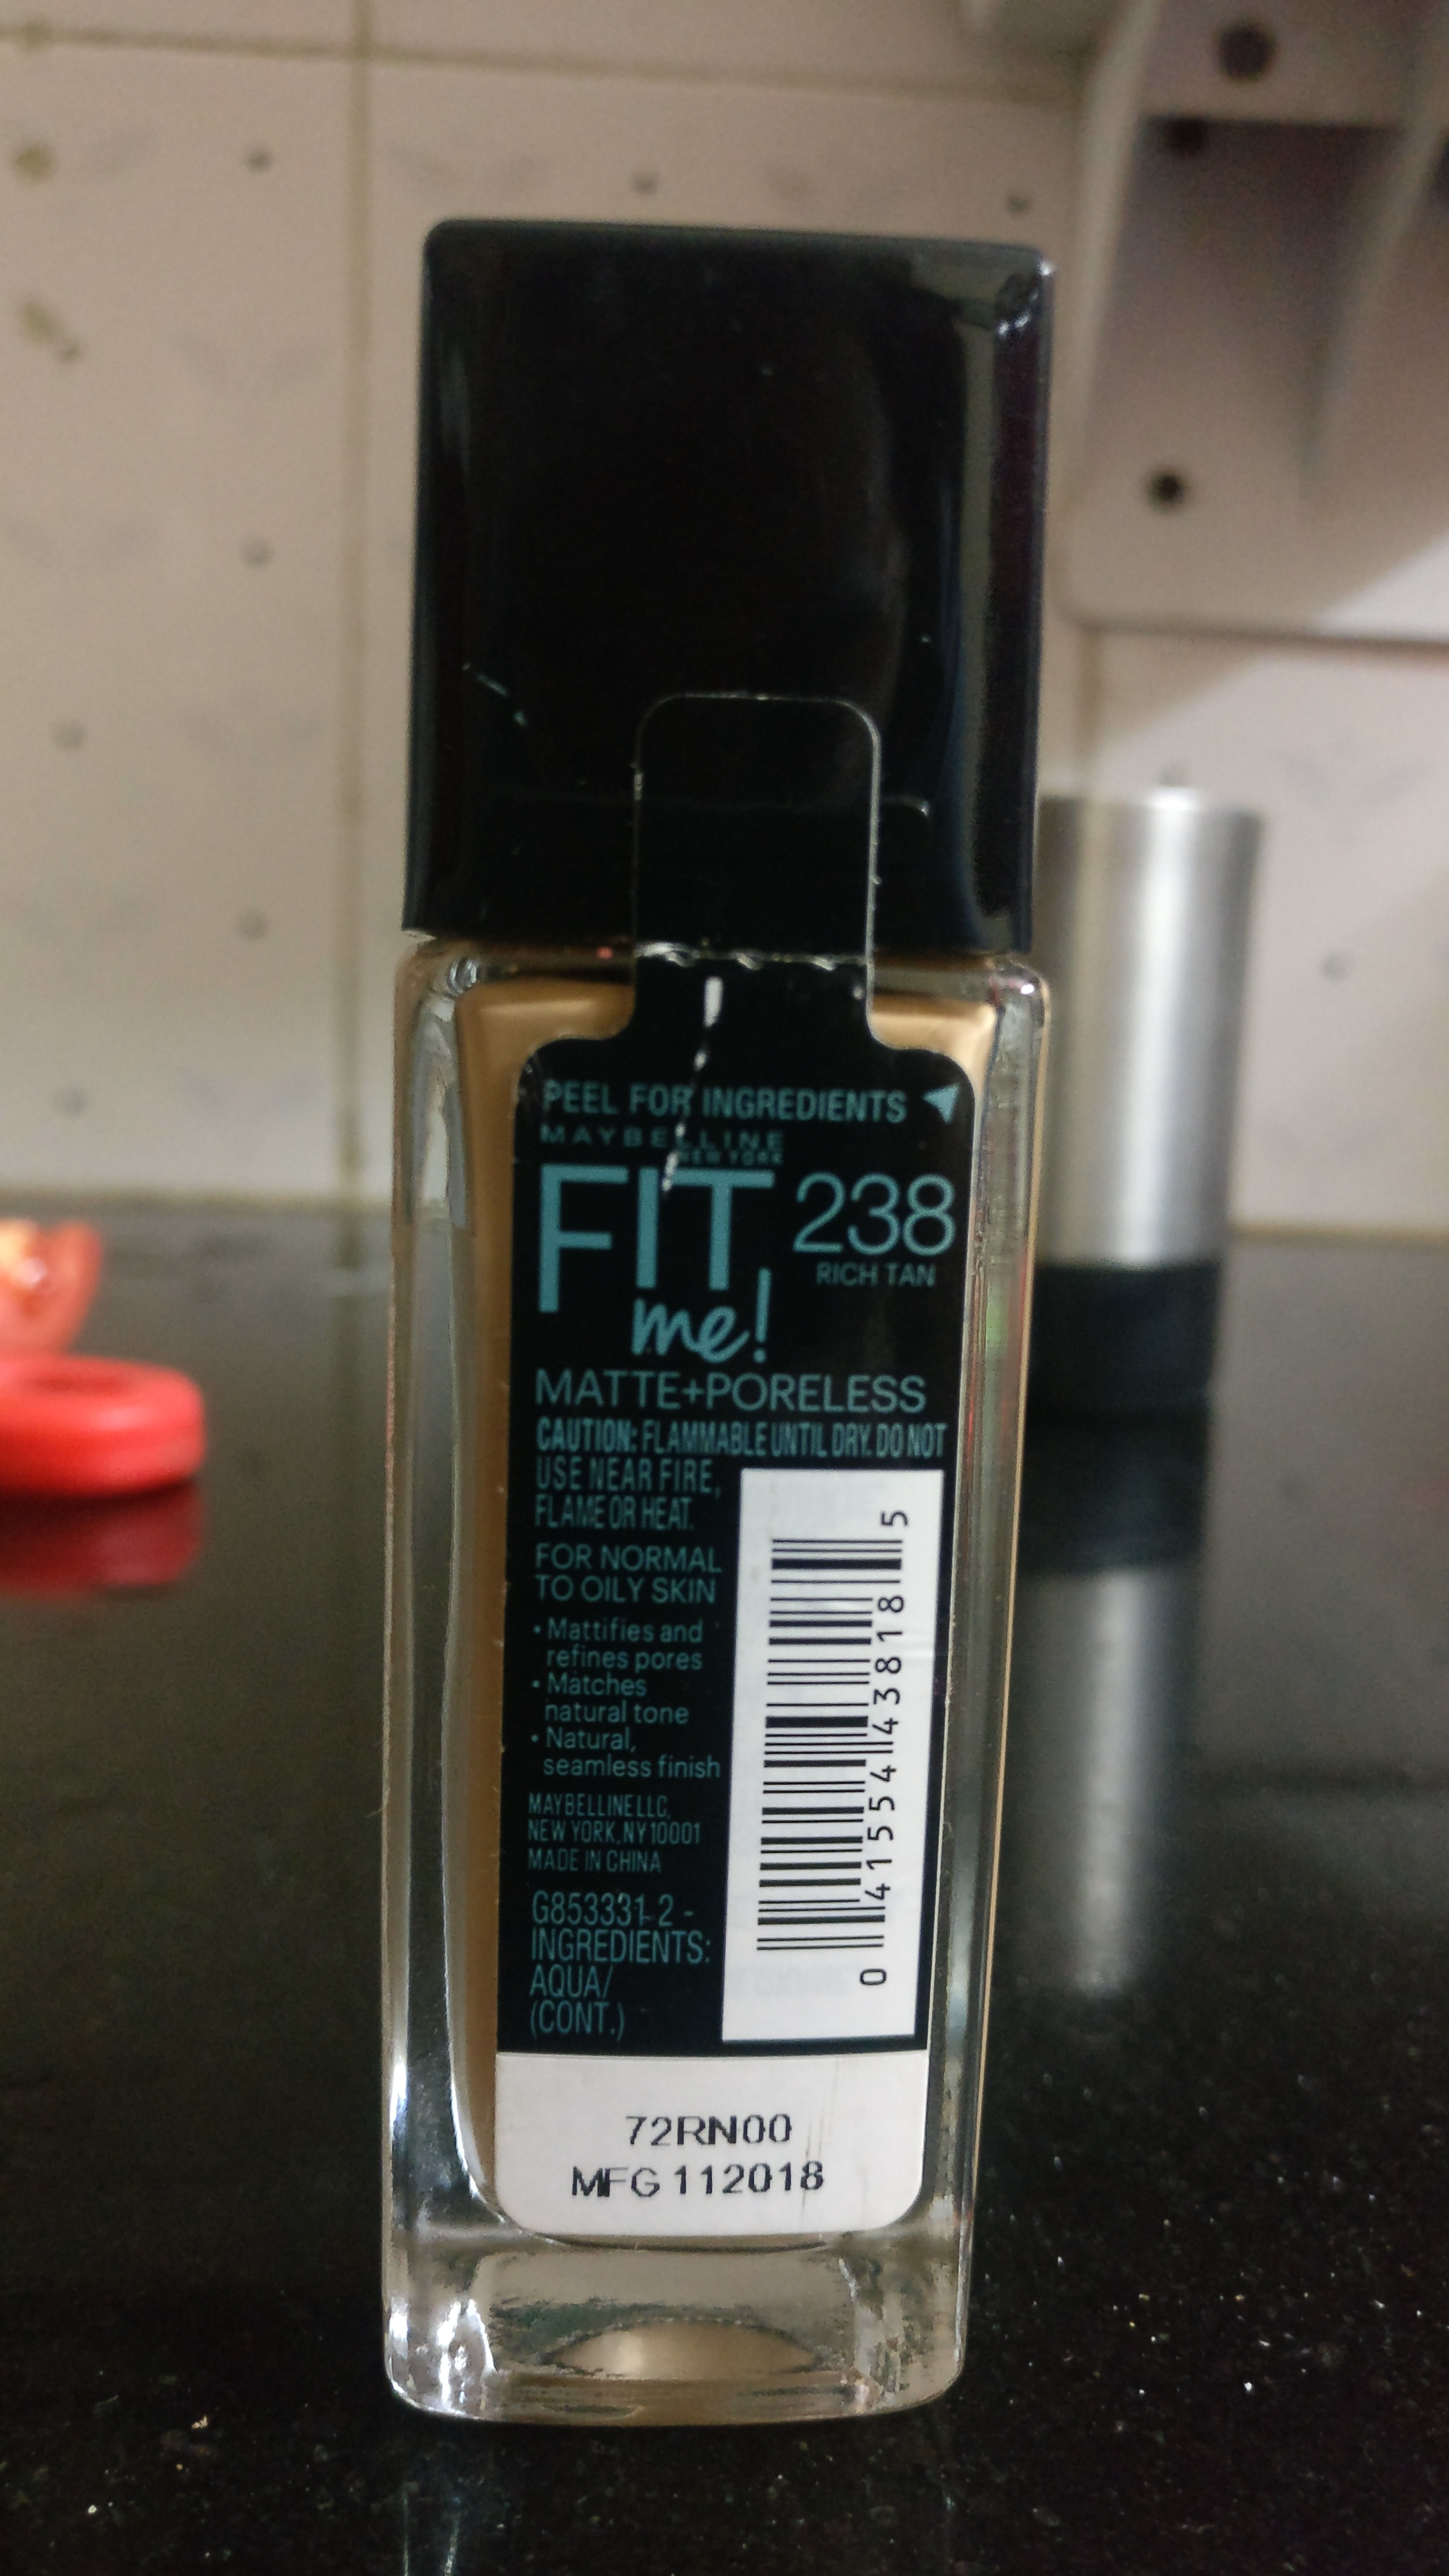barcode: (740, 1488, 915, 2045)
